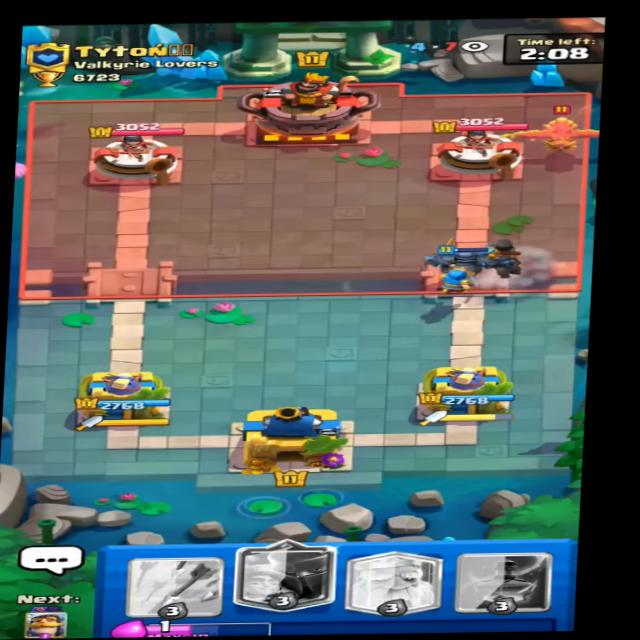phoenix: (503, 107, 629, 155)
